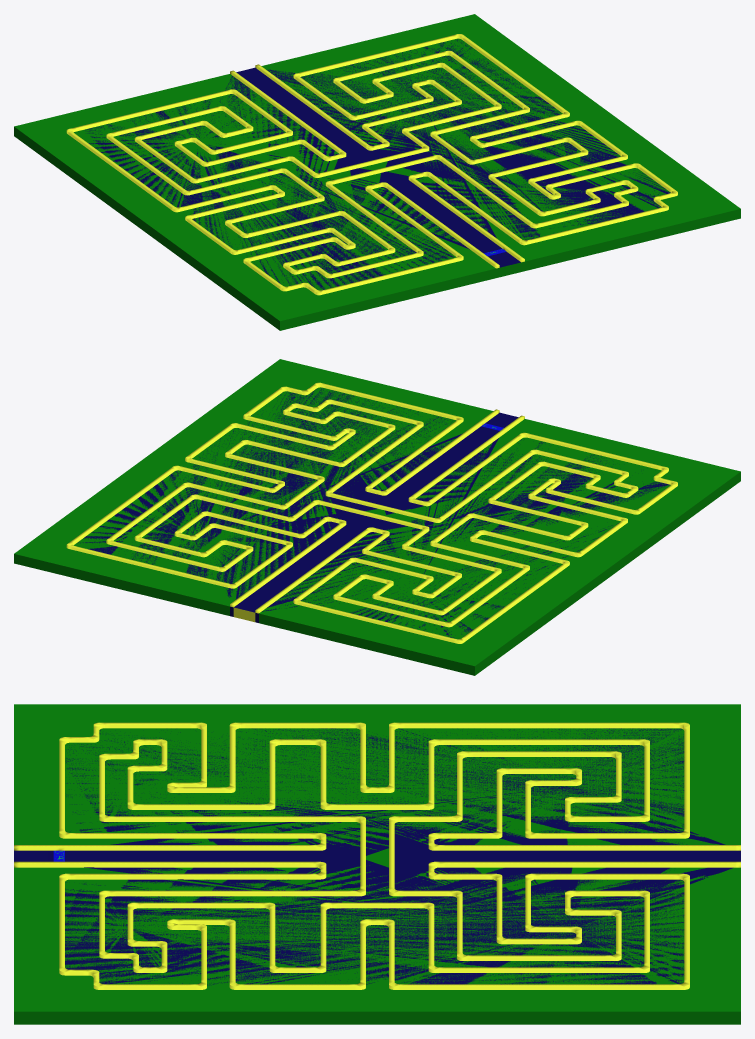
Rendered from map1.fbx.
3 views of the same model, one above another, from view 1: azimuth 30°, elevation 25°; view 2: azimuth 150°, elevation 25°; view 3: azimuth 270°, elevation 25° (orthographic). The views are drawn at different scales.
Visible parts, largest first — view 1: Cube.001; view 2: Cube.001; view 3: Cube.001.
Part boxes in pixels (left/top/right/bottom): Cube.001: left=14, top=14, right=740, bottom=330; Cube.001: left=14, top=359, right=740, bottom=675; Cube.001: left=14, top=704, right=740, bottom=1024.
Bounding box in the file's own units: 10000 × 250 × 10000.
